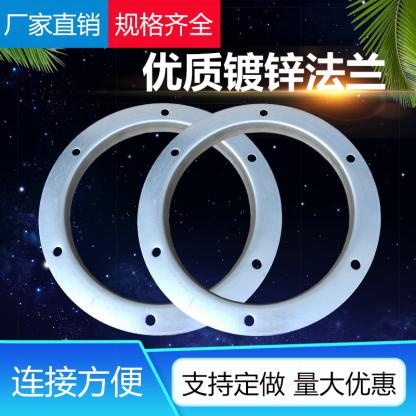FOD: (34, 99, 284, 339), (134, 101, 387, 338)
